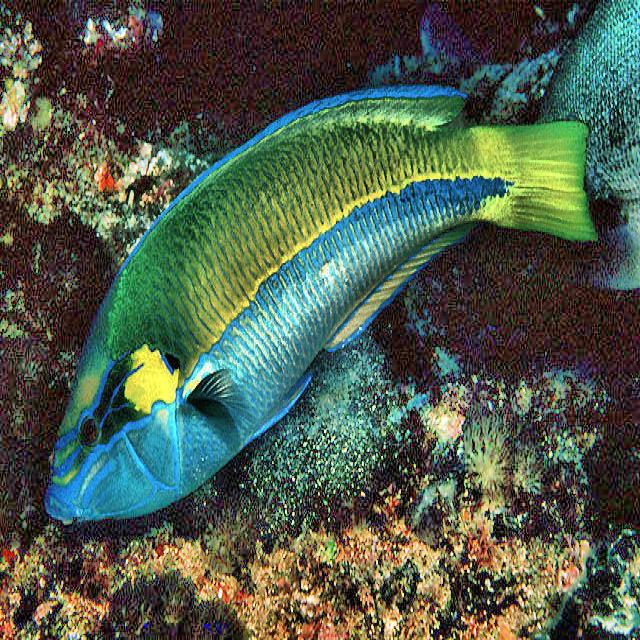fish: (47, 83, 596, 527)
